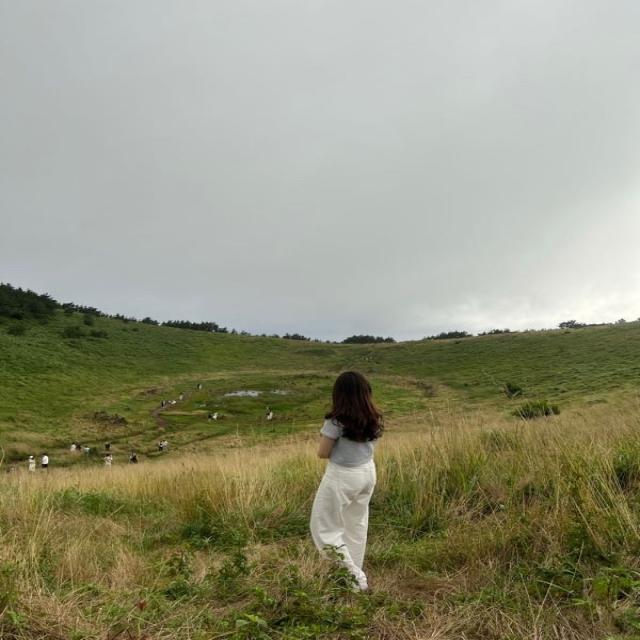cardigan: (322, 413, 382, 465)
cottonpants: (312, 460, 376, 589)
